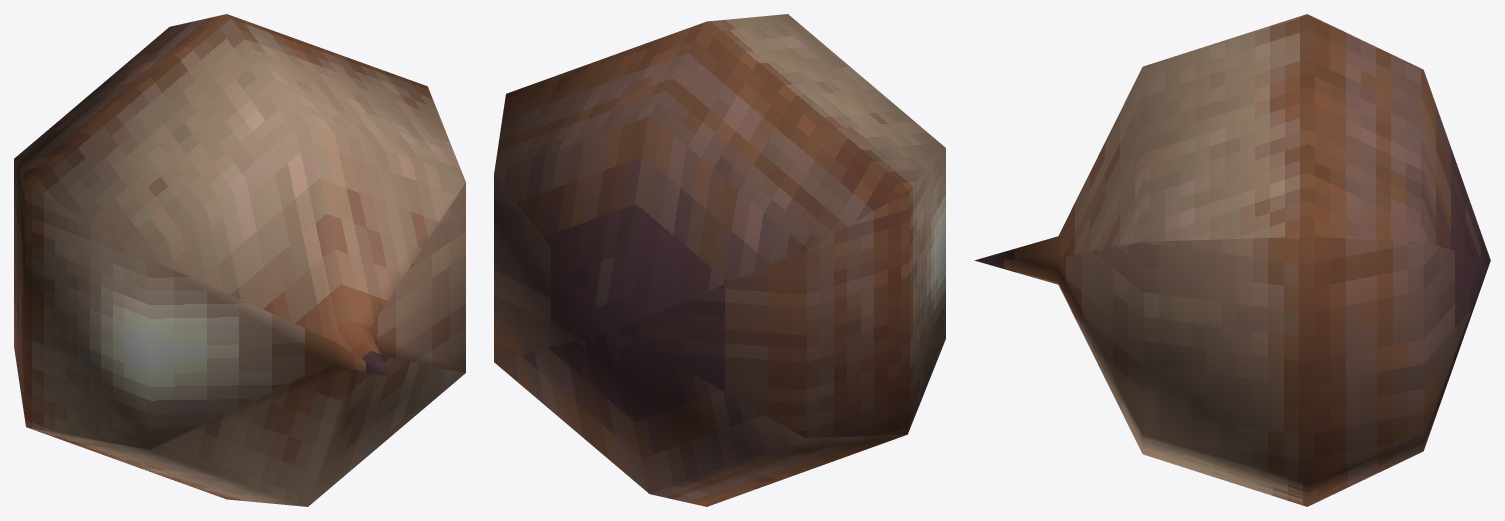
The model's file is onion.glb.
3 views of the same model, side by side, from view 1: azimuth 30°, elevation 25°; view 2: azimuth 150°, elevation 25°; view 3: azimuth 270°, elevation 25° (orthographic).
Visible parts, largest first — view 1: Circle; view 2: Circle; view 3: Circle.
Boxes of the visible parts, left/top/right/bottom form: Circle: left=14, top=14, right=465, bottom=506; Circle: left=494, top=14, right=945, bottom=506; Circle: left=974, top=14, right=1490, bottom=506.
Size of the model in its own units: 0.0884 by 0.1021 by 0.097.
Materials: 1 (1 with a texture image).
